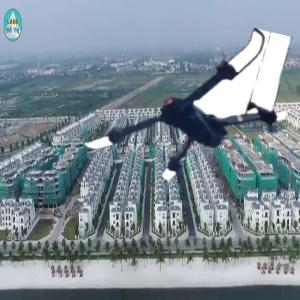drone: (87, 15, 287, 215)
